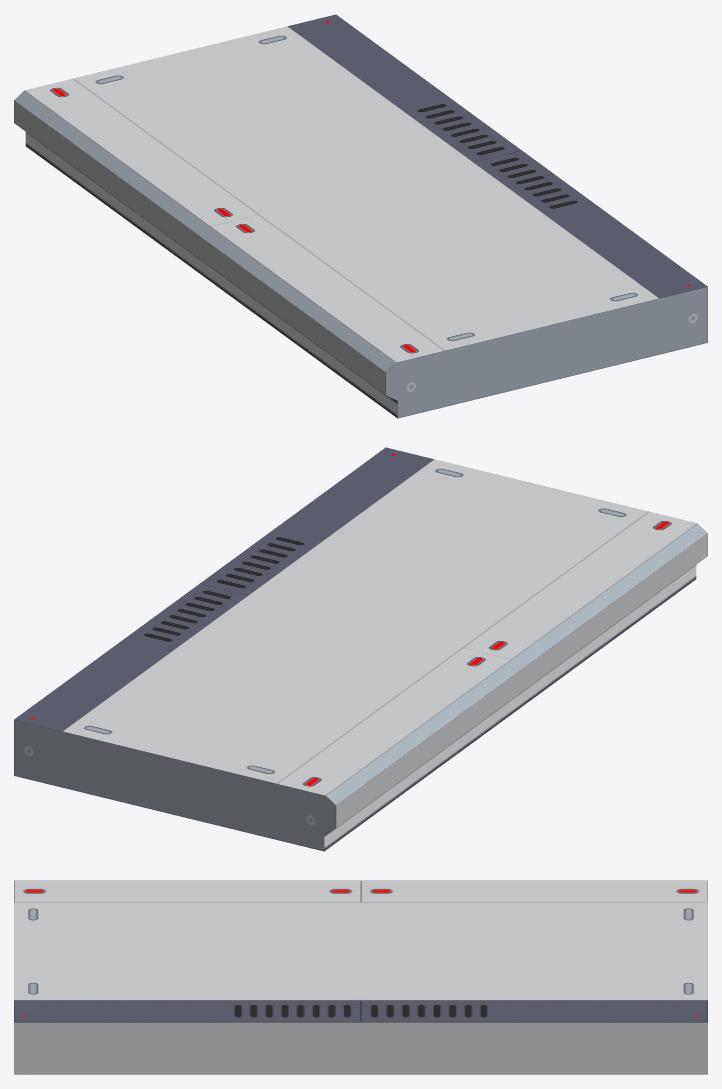
Rendered from Interior_Plateform_02.FBX.
The picture shows the model from 3 angles, top to bottom: view 1: azimuth 30°, elevation 25°; view 2: azimuth 150°, elevation 25°; view 3: azimuth 270°, elevation 25°; orthographic projection. The views are drawn at different scales.
Visible parts, largest first — view 1: Interior_Plateform_02; view 2: Interior_Plateform_02; view 3: Interior_Plateform_02.
Boxes of the visible parts, box(x1,y1,x2,y2) form: Interior_Plateform_02: box(14, 14, 707, 418); Interior_Plateform_02: box(14, 447, 707, 851); Interior_Plateform_02: box(14, 880, 707, 1074).
Bounding box in the file's own units: 3 × 0.5 × 6.
Materials: 2 (2 with a texture image).
